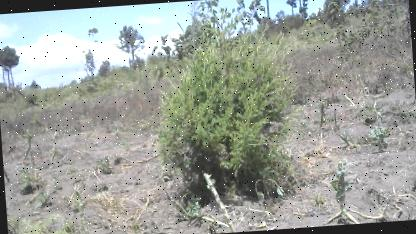tree: (144, 11, 312, 209)
